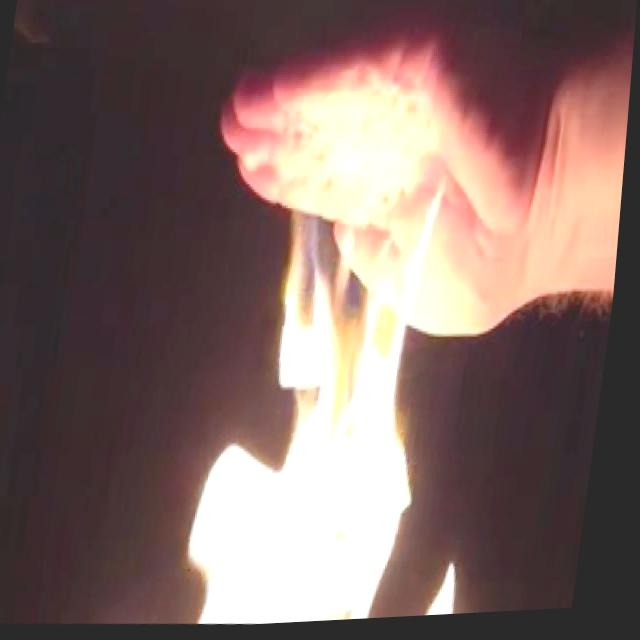helmet: (177, 98, 475, 631)
